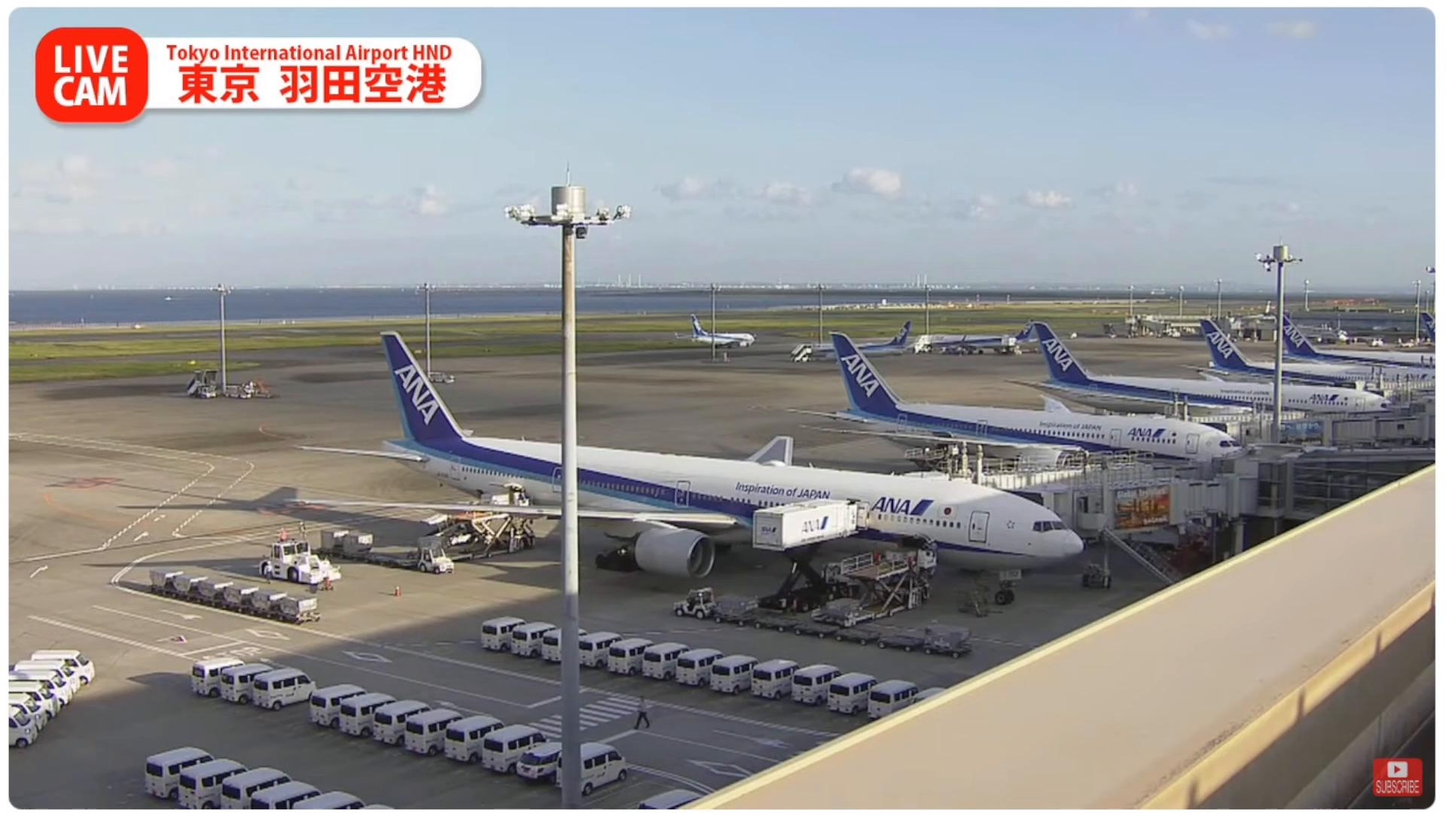APS: (259, 539, 342, 584)
Aerobridge: (1002, 452, 1258, 588), (892, 443, 1211, 486)
Airplane: (279, 333, 1086, 605)
Catering: (752, 499, 859, 615)
Dolly: (713, 607, 972, 657), (150, 586, 320, 625), (318, 548, 418, 568)
JCPL: (812, 551, 937, 626), (444, 513, 538, 563)
Skyloader: (420, 512, 481, 544)
Tractor: (673, 586, 718, 619), (419, 547, 453, 575)
ULD: (924, 624, 972, 647), (250, 589, 287, 612), (222, 585, 260, 607), (280, 594, 318, 616), (198, 579, 233, 601), (322, 525, 351, 551), (172, 573, 207, 594), (150, 567, 183, 589), (346, 532, 375, 555), (480, 492, 510, 510), (417, 536, 442, 555)
Window: (1291, 461, 1433, 515)
